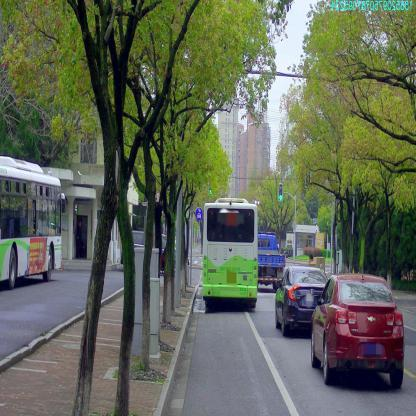traffic-light: (279, 184, 283, 200), (209, 187, 212, 195)
